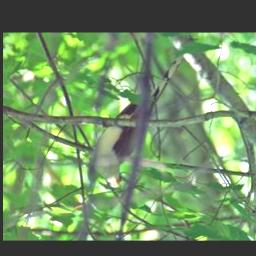Cuckoo: (90, 53, 190, 190)
